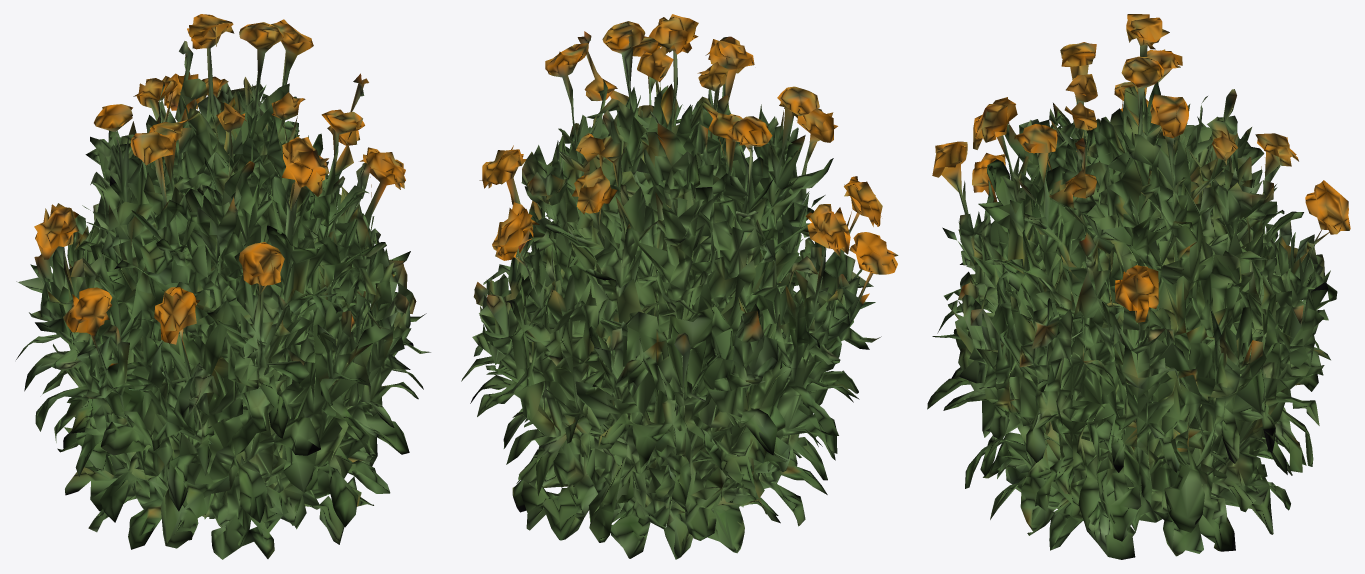
Rendered from calendula.glb.
3 renders of one model, left to right at view 1: azimuth 30°, elevation 25°; view 2: azimuth 150°, elevation 25°; view 3: azimuth 270°, elevation 25°, orthographic.
Visible parts, largest first — view 1: Mesh_0.001; view 2: Mesh_0.001; view 3: Mesh_0.001.
Part boxes in pixels (box(x1,y1,x2,y2)): Mesh_0.001: box(16, 14, 430, 559); Mesh_0.001: box(461, 14, 898, 559); Mesh_0.001: box(927, 14, 1350, 559).
Size of the model in its own units: 1.2 by 1.5 by 1.2.
